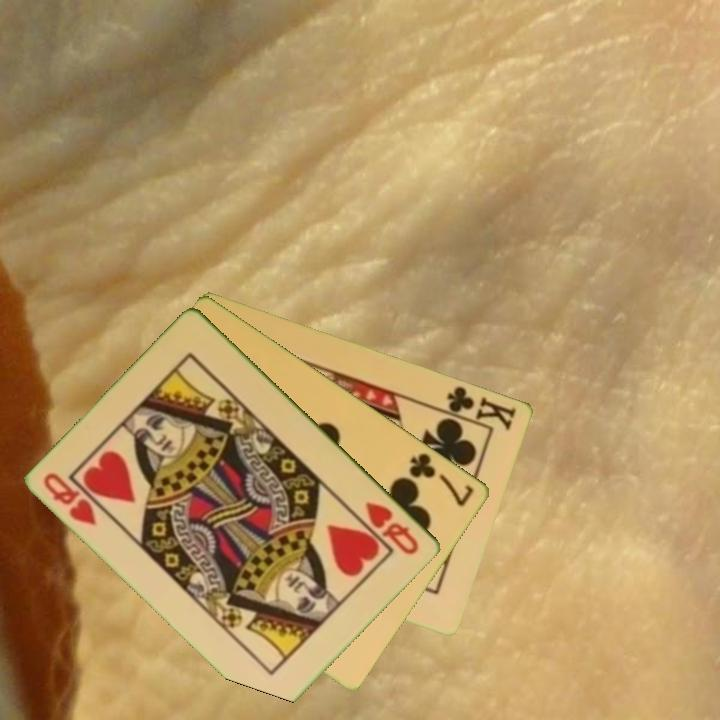7c: (405, 449, 478, 510)
Kc: (436, 382, 520, 434)
Qh: (40, 469, 101, 529), (362, 498, 422, 558)
